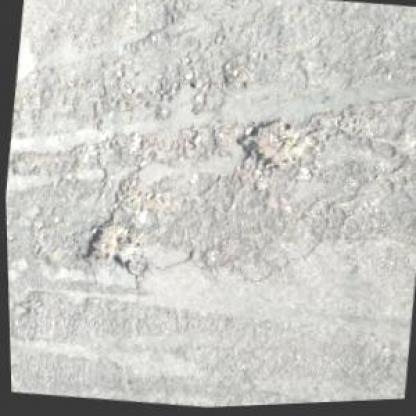pothole: (230, 112, 307, 176), (78, 213, 148, 276)
